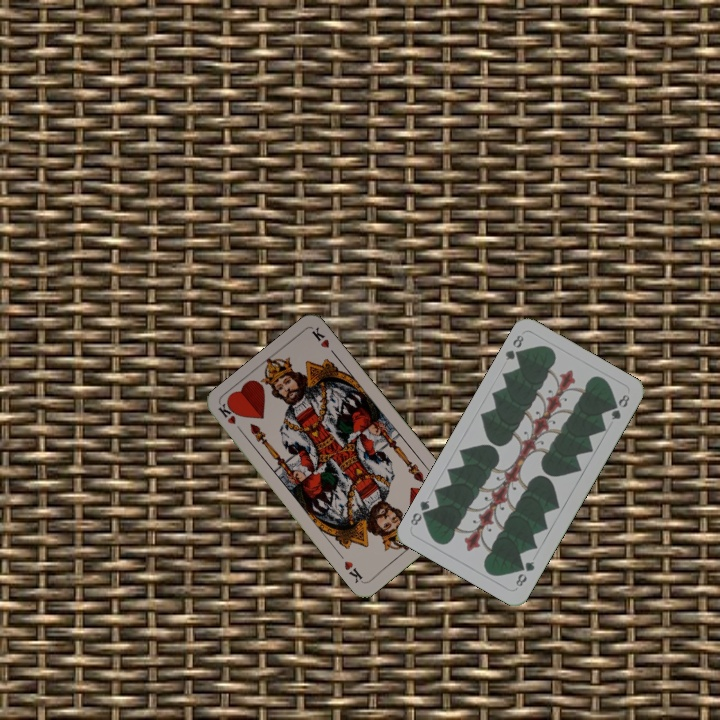G8: (511, 557, 537, 589), (501, 331, 526, 363)
HK: (214, 400, 246, 437)
